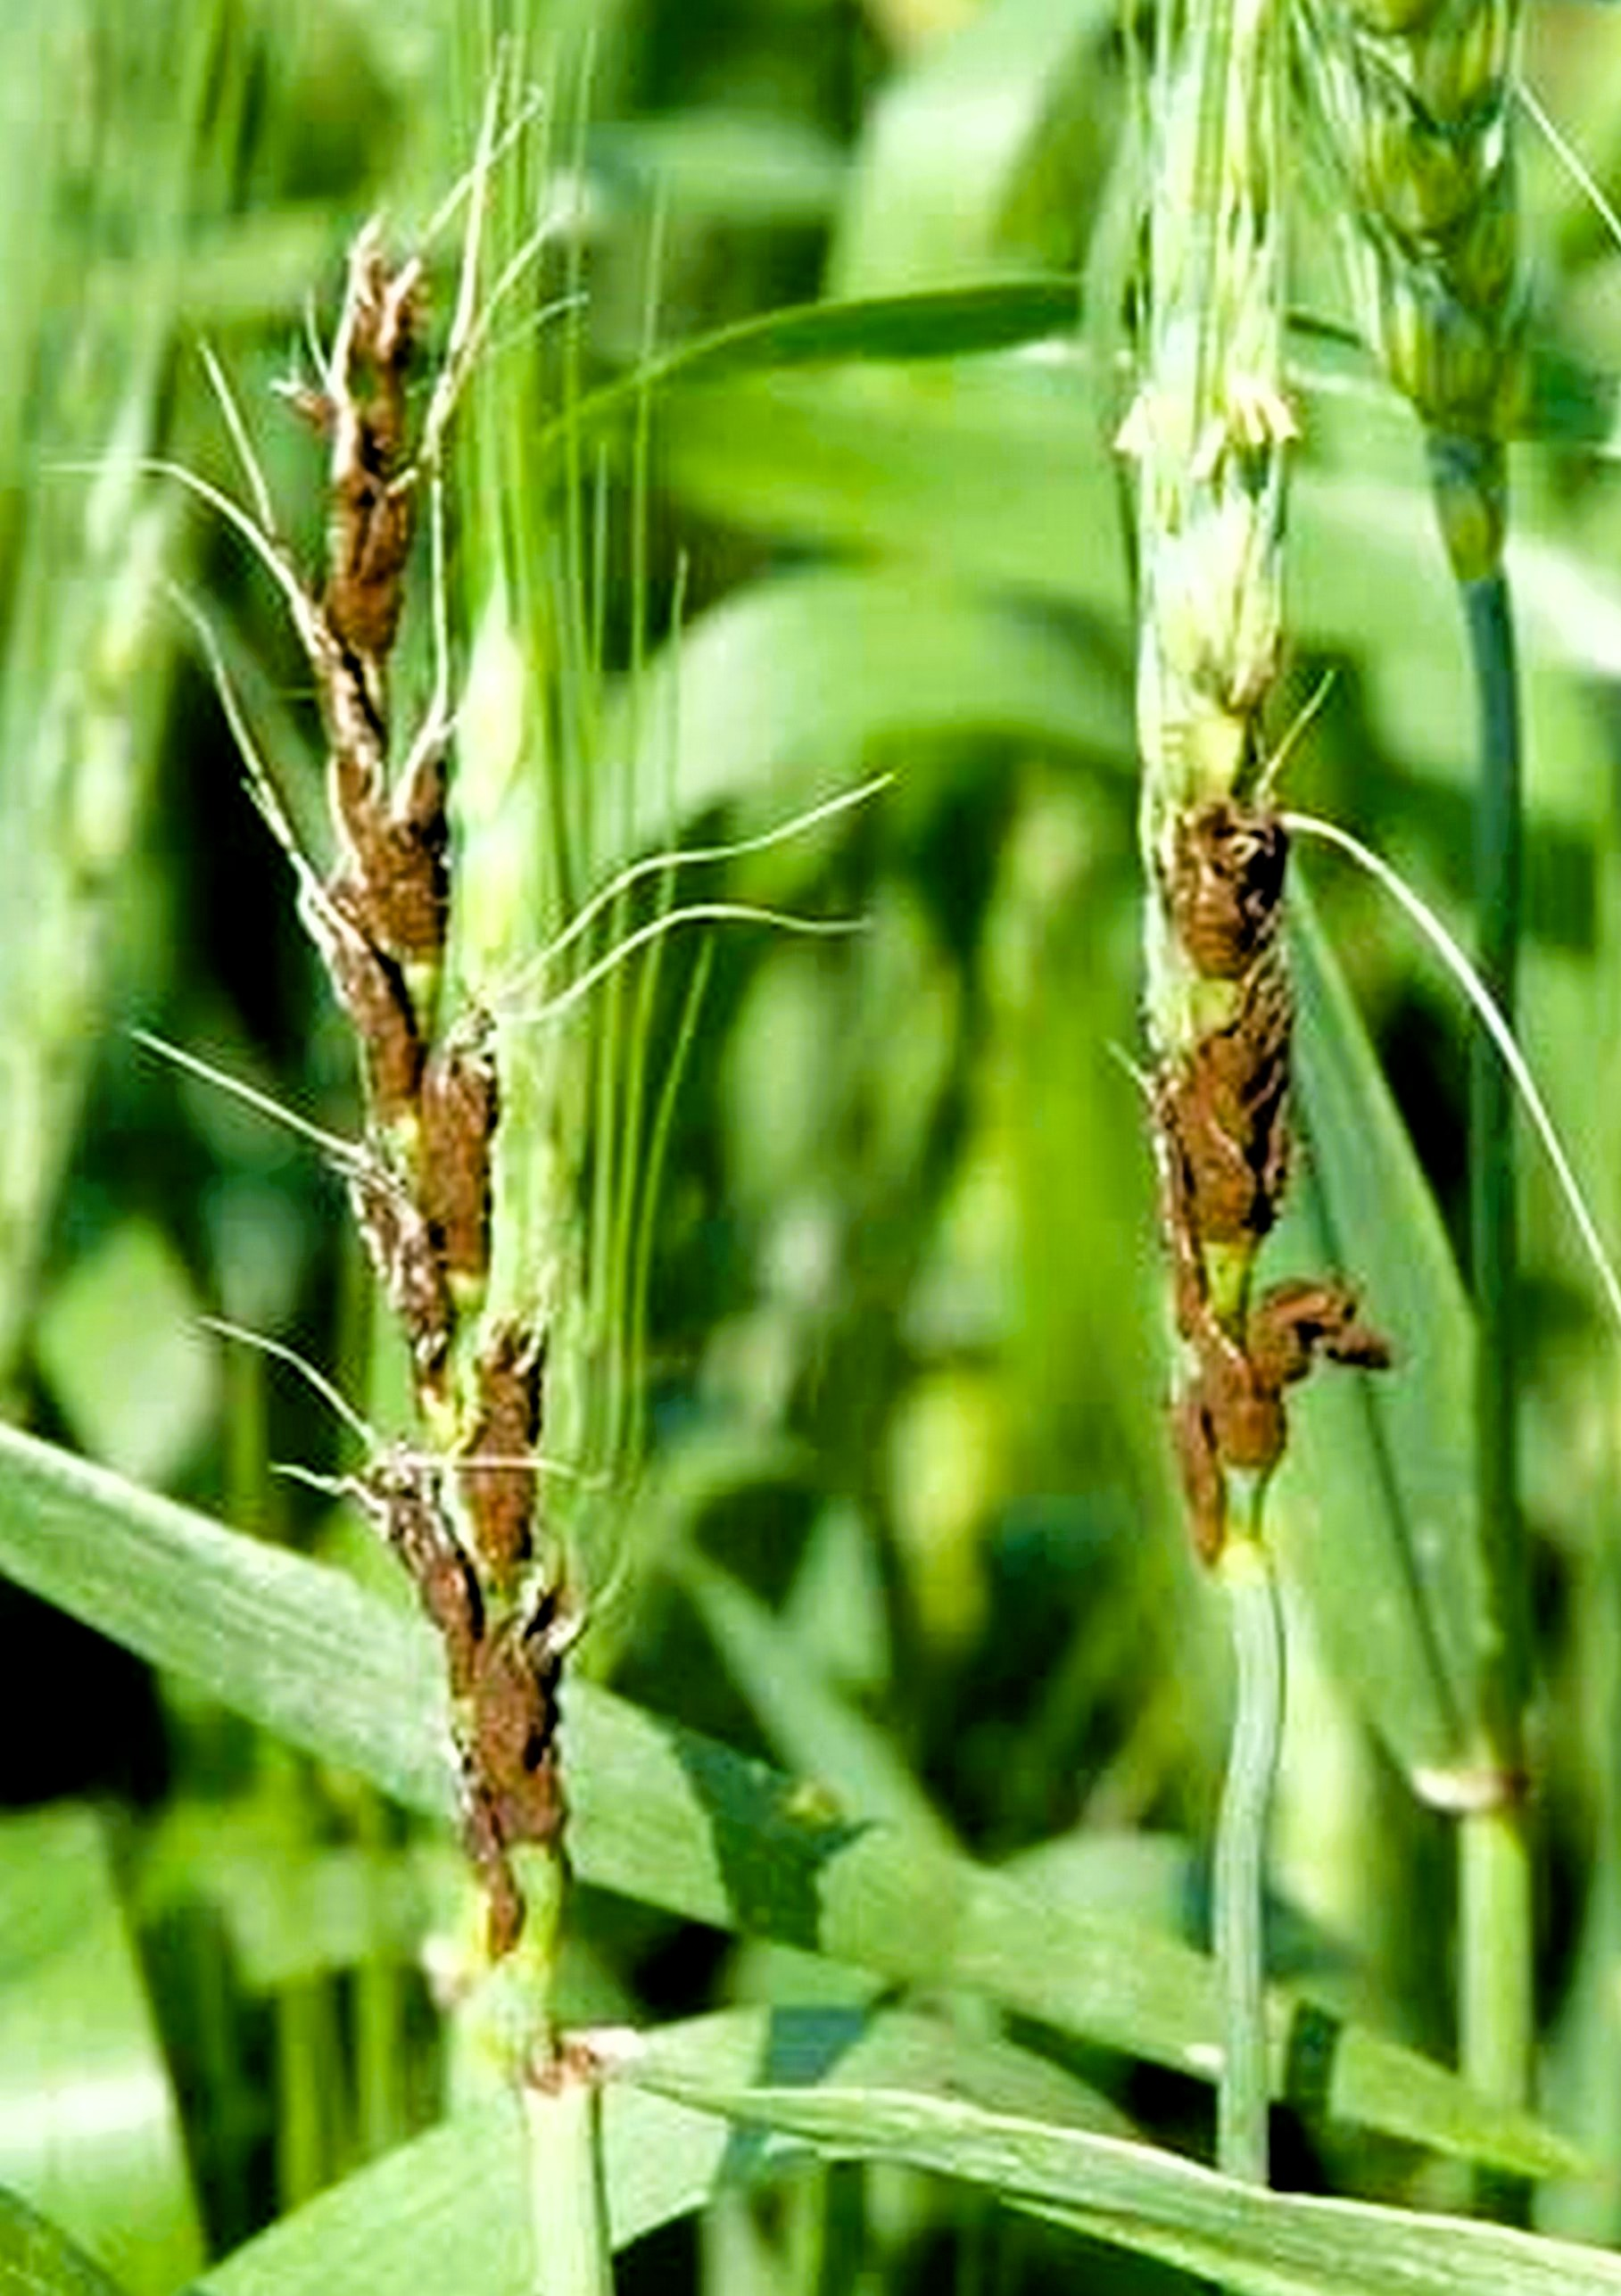Wheat Loose Smut: (174, 302, 625, 1840)
